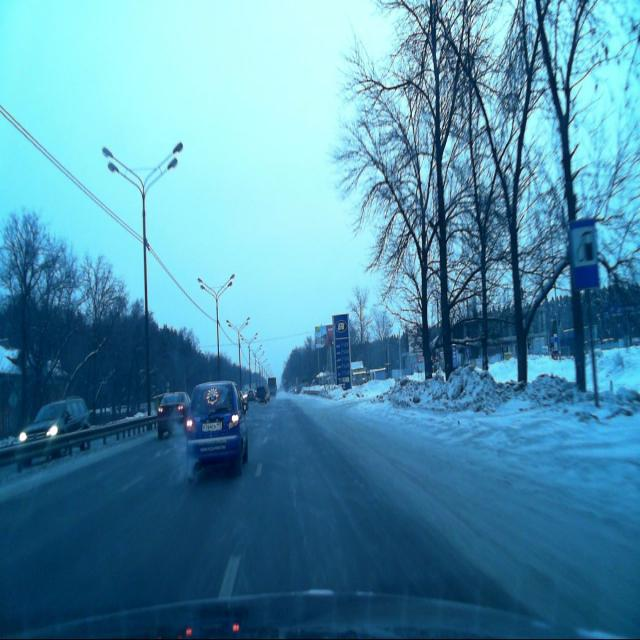object: (587, 294, 599, 408)
road sign: (570, 219, 600, 292)
